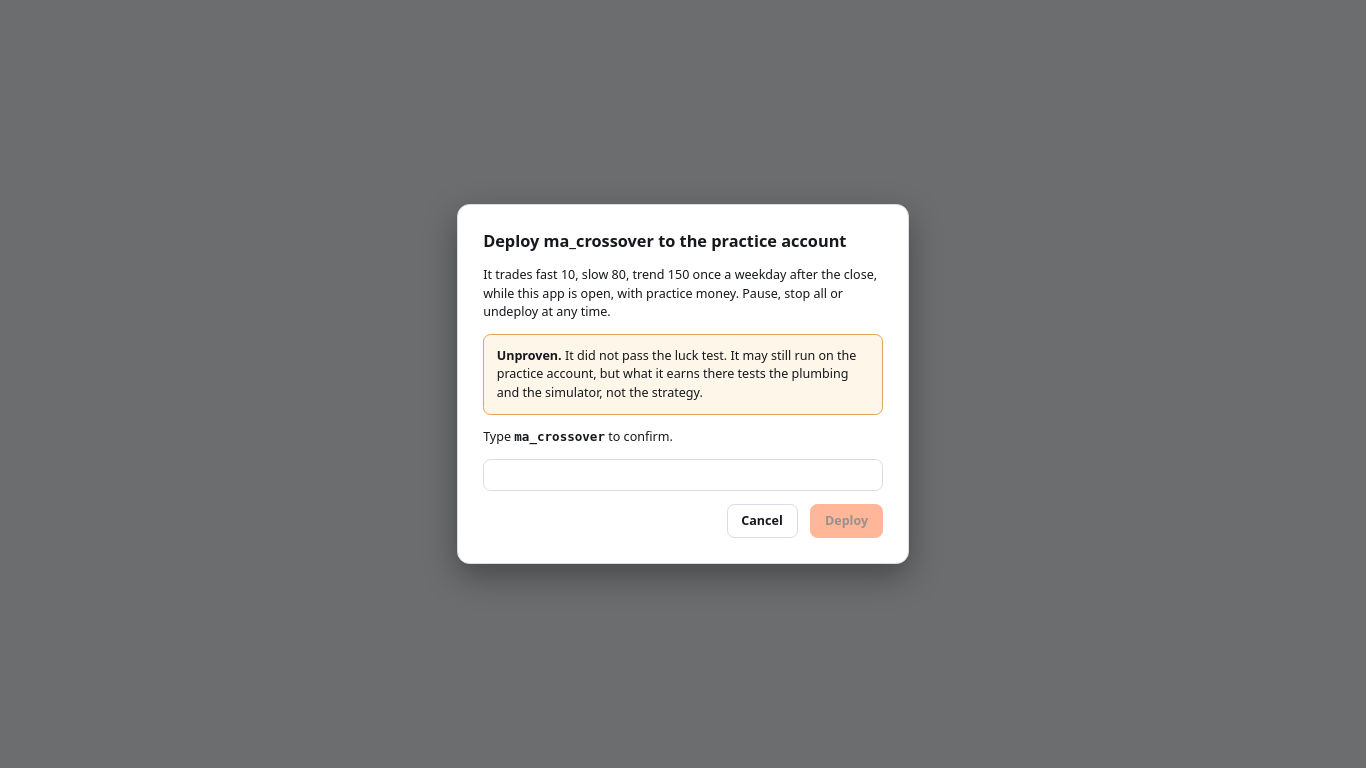
Test case: the deploy dialog › shows the server's refusal
Type "ma_crossover" into the field named "Strategy name".
click(683, 475); type("ma_crossover")  # box [483, 458, 883, 491]
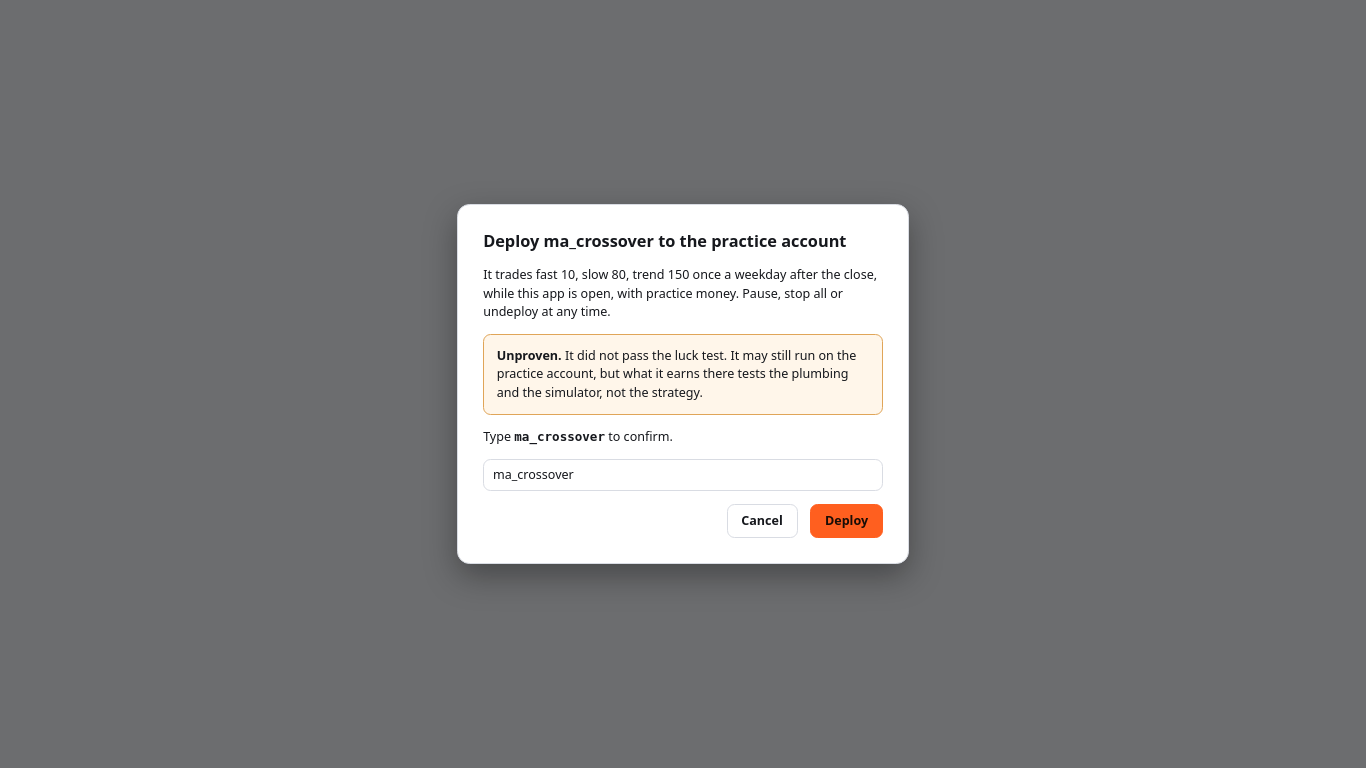
Click the button "Deploy".
click(847, 521)  # box [810, 504, 883, 538]
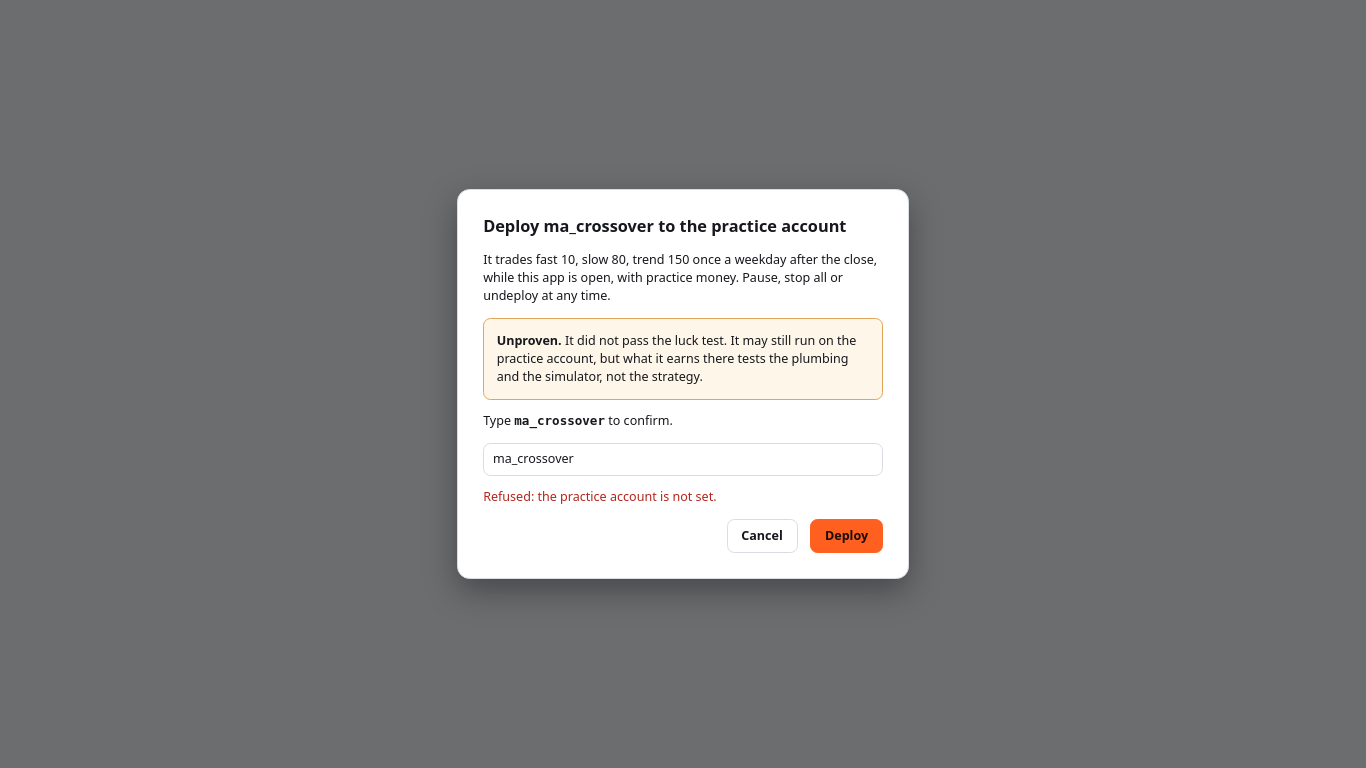
expect the message reads "Refused: the practice account is not set.": met, box [483, 488, 716, 505]
